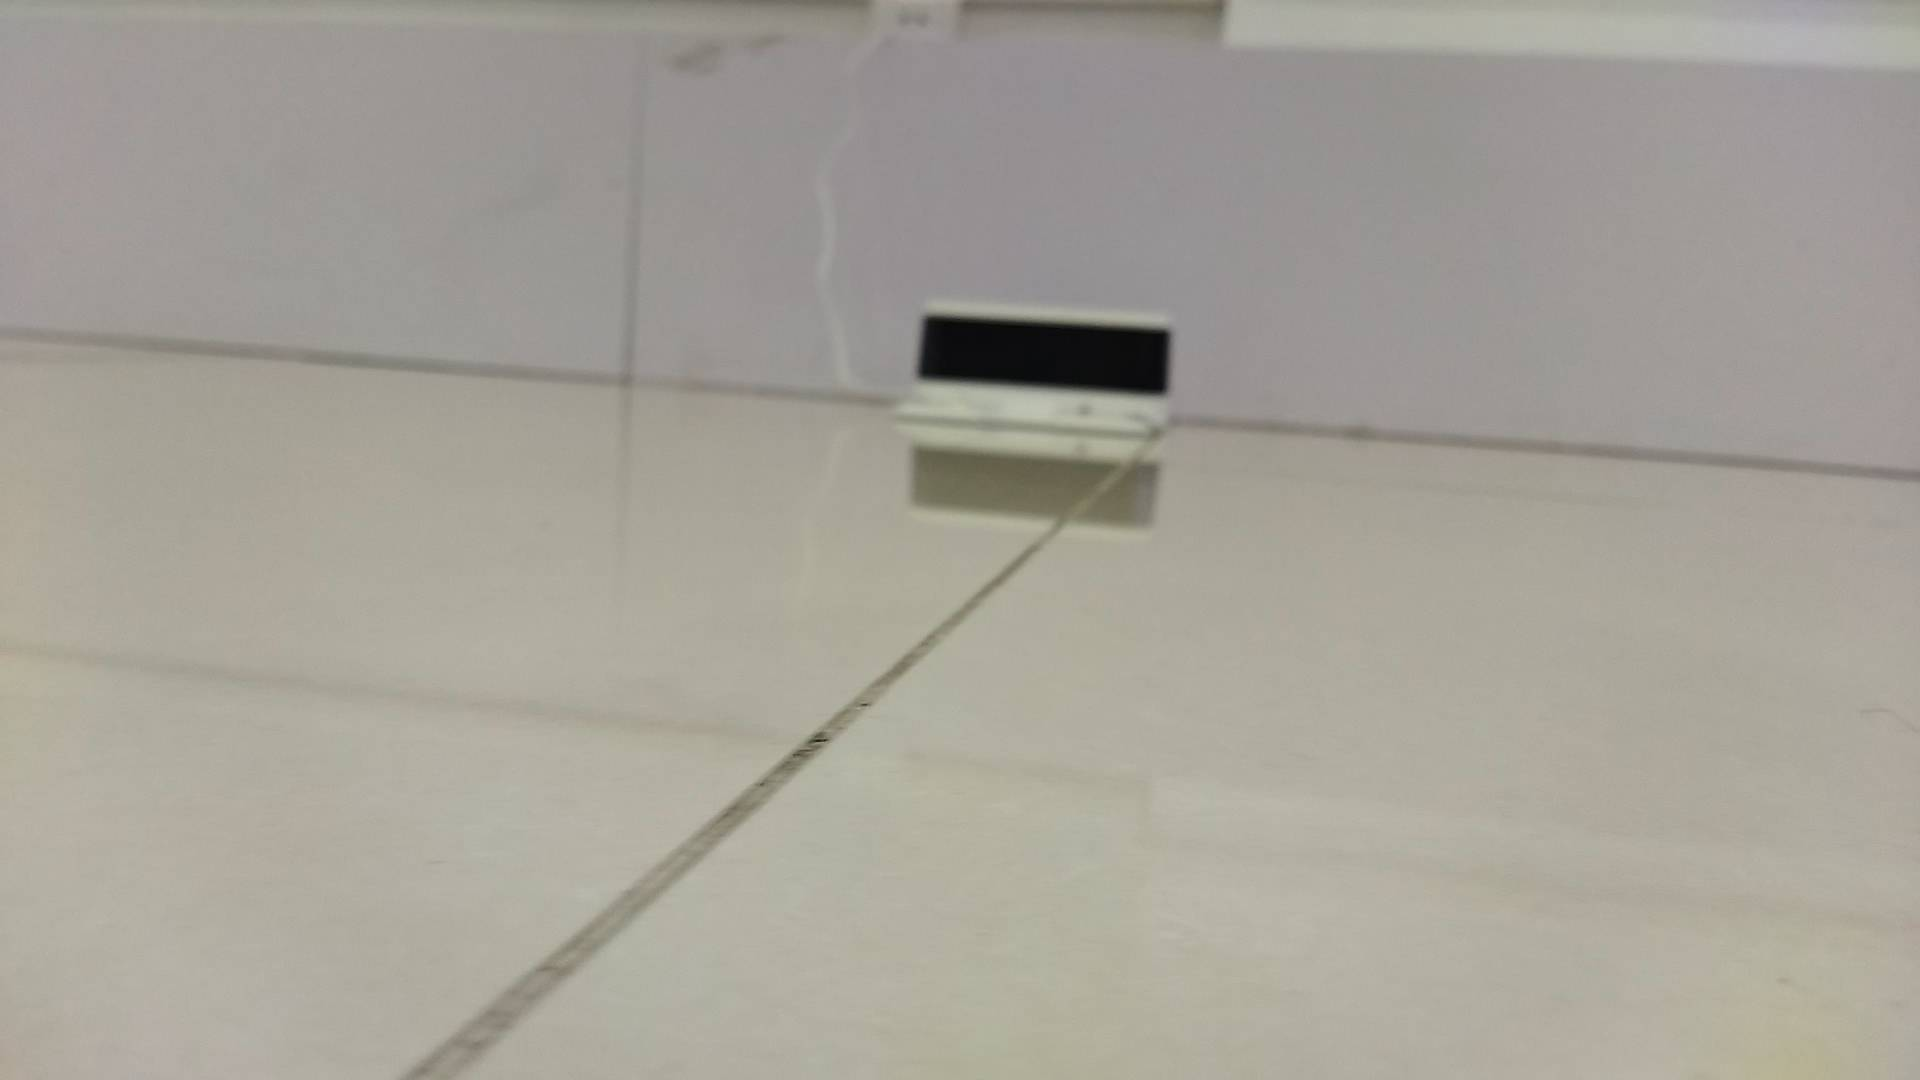recharge seat: (898, 301, 1182, 436)
